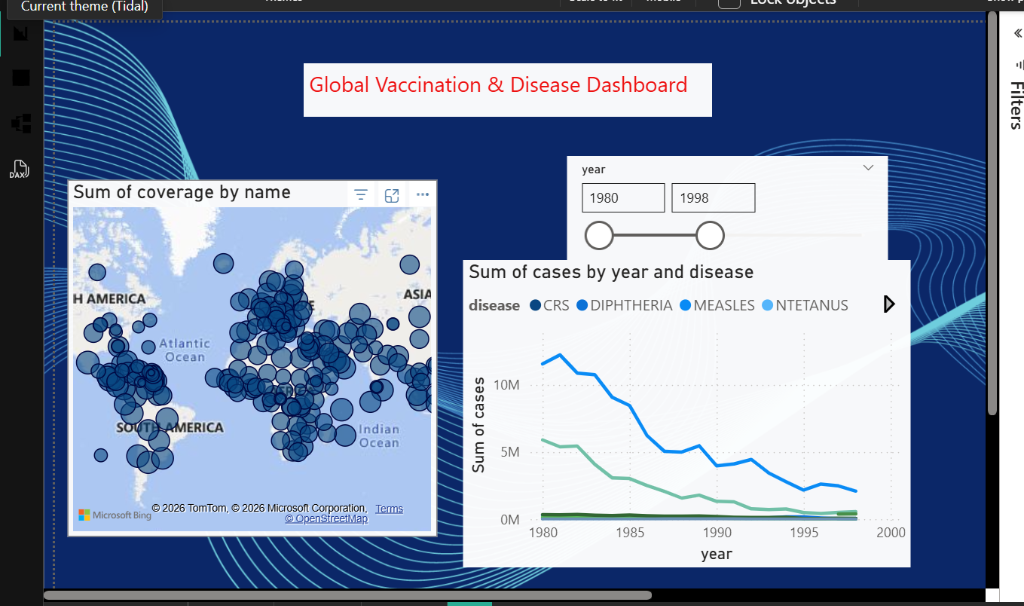

The page's visual inventory and layout, read from the dashboard file:
{"tool":"powerbi","page":{"name":"Page 2","canvas":[1280,720],"ordinal":1},"visuals":[{"type":"map","fields":{"Category":["coverage_engineered.name"],"Size":["Sum(coverage_engineered.coverage)"]},"box":[11,139,327,316],"z":0},{"type":"lineChart","fields":{"Category":["cases_engineered.year"],"Y":["Sum(cases_engineered.cases)"],"Series":["cases_engineered.disease"]},"box":[361,210,396,272],"z":1000},{"type":"slicer","fields":{"Values":["cases_engineered.year"]},"box":[453,118,284,92],"z":1001},{"type":"textbox","box":[220,36,361,47],"z":1002}]}

Visuals, with their boxes on the page's 1280x720 design canvas (x1, y1, x2, y2). These are canvas units, not pixel positions in the 1024x606 screenshot, which may show the page scaled, cropped or inside an application window:
map - coverage_engineered.name x Sum(coverage_engineered.coverage): BBox(11, 139, 338, 455)
lineChart - cases_engineered.year x Sum(cases_engineered.cases): BBox(361, 210, 757, 482)
slicer - cases_engineered.year: BBox(453, 118, 737, 210)
textbox: BBox(220, 36, 581, 83)
